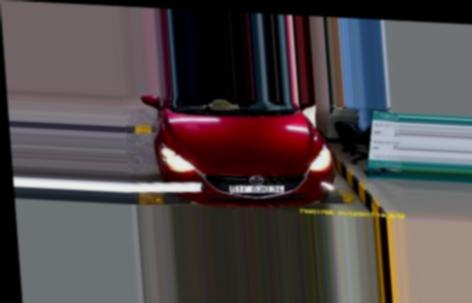License_Plate: (226, 181, 287, 200)
